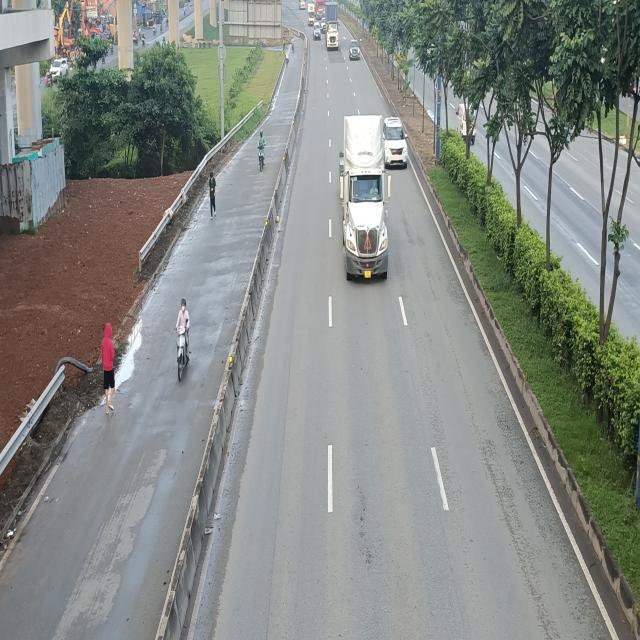car: (381, 116, 408, 168), (349, 38, 361, 60)
container: (339, 118, 391, 282), (324, 1, 339, 51)
